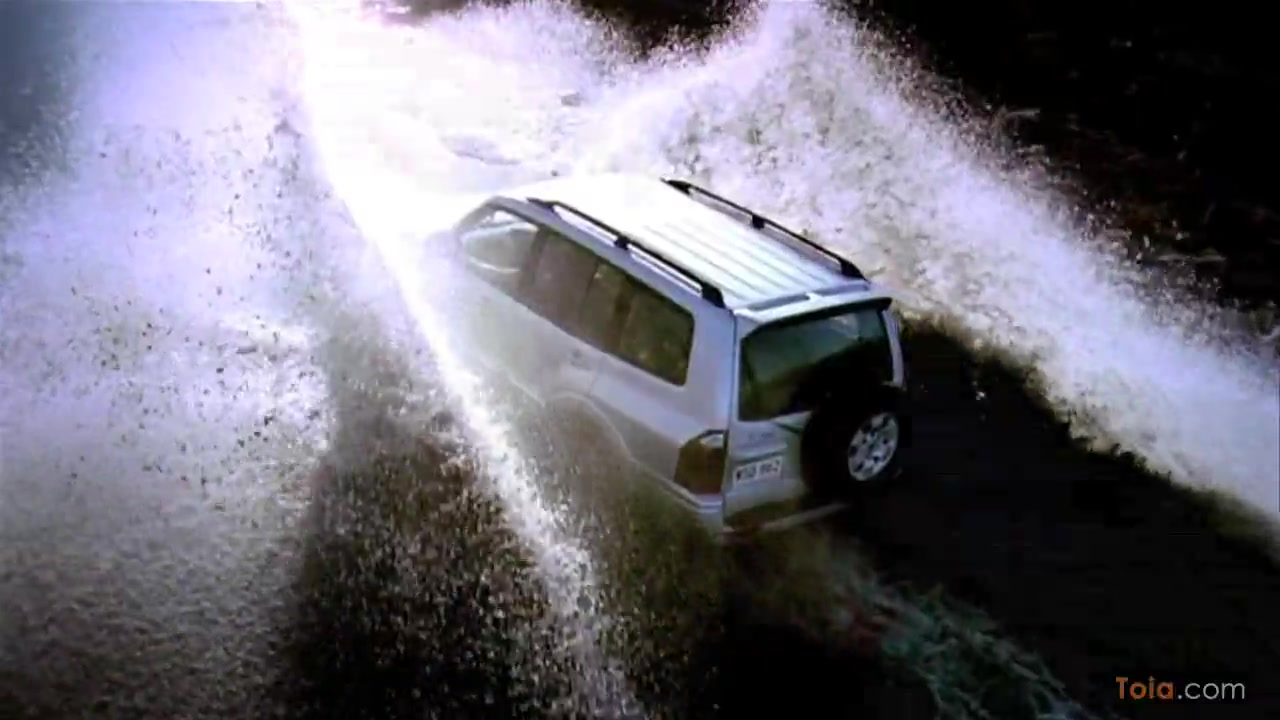car: (419, 170, 913, 551)
